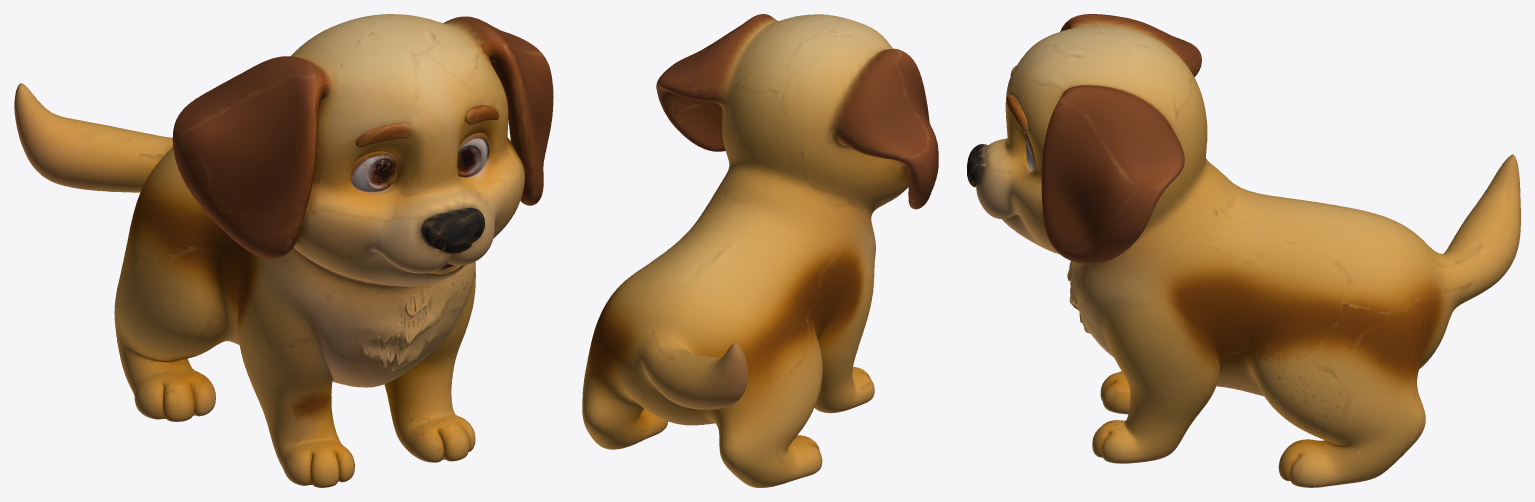
Rendered from hy3_dog_draco.glb.
3 renders of one model, left to right at view 1: azimuth 30°, elevation 25°; view 2: azimuth 150°, elevation 25°; view 3: azimuth 270°, elevation 25°, orthographic. The views are drawn at different scales.
Visible parts, largest first — view 1: material; view 2: material; view 3: material.
Part boxes in pixels (left/top/right/bottom): material: left=14, top=14, right=553, bottom=487; material: left=582, top=14, right=938, bottom=487; material: left=967, top=14, right=1520, bottom=487.
Bounding box in the file's own units: 0.7012 × 0.8484 × 1.09.
Materials: 1 (1 with a texture image).
